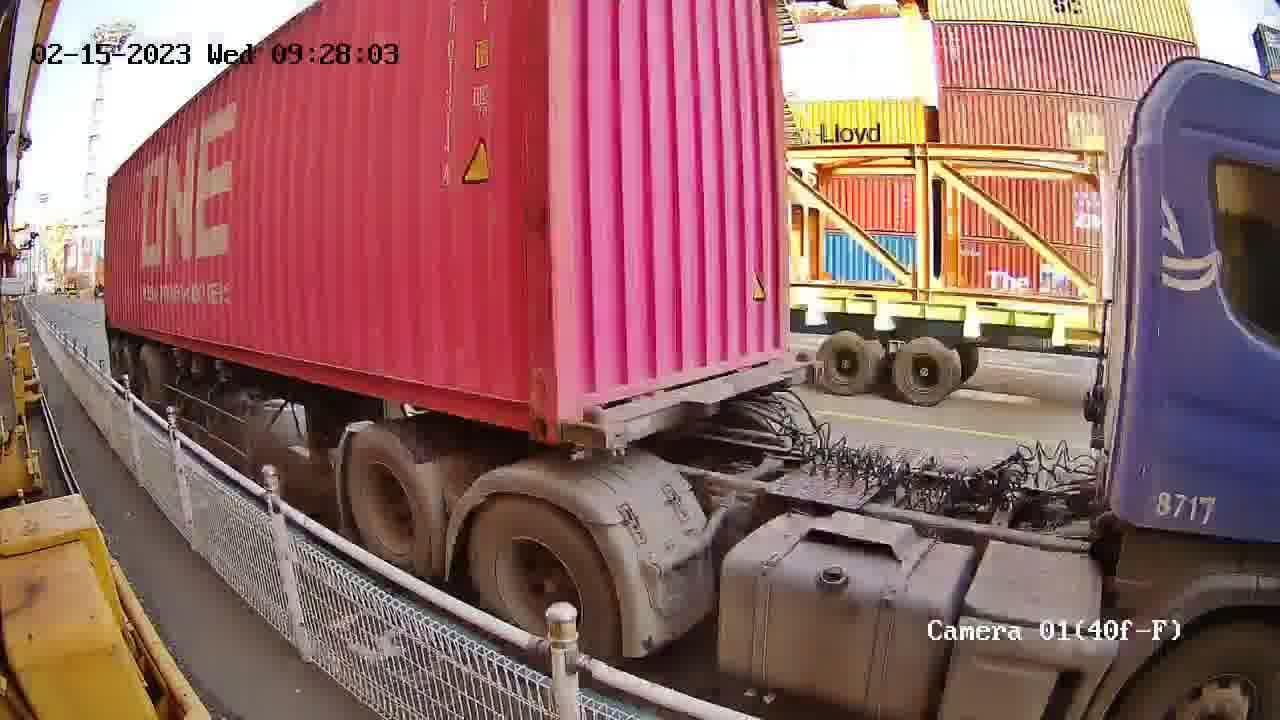Chassis: (568, 353, 827, 438)
Hole_R: (494, 349, 558, 440)
Tire: (462, 502, 618, 660), (347, 428, 429, 558)
